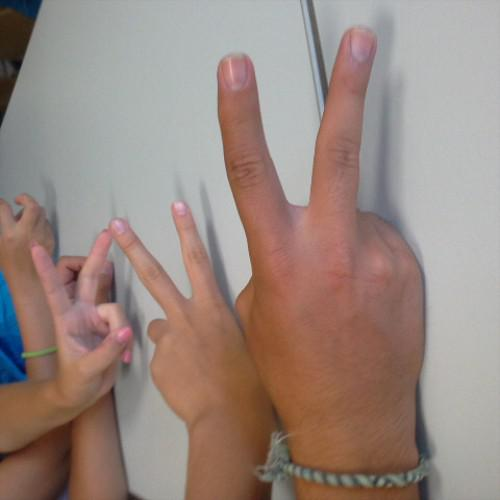scissors: (208, 19, 432, 423), (102, 192, 236, 422), (23, 224, 144, 411)
